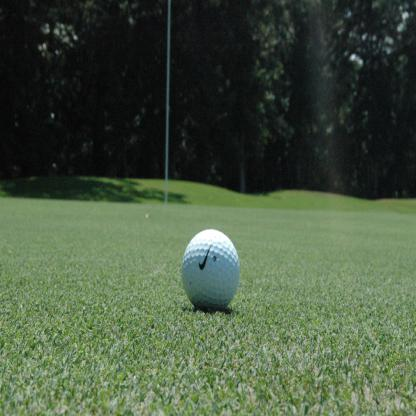Ball: (184, 230, 240, 312)
